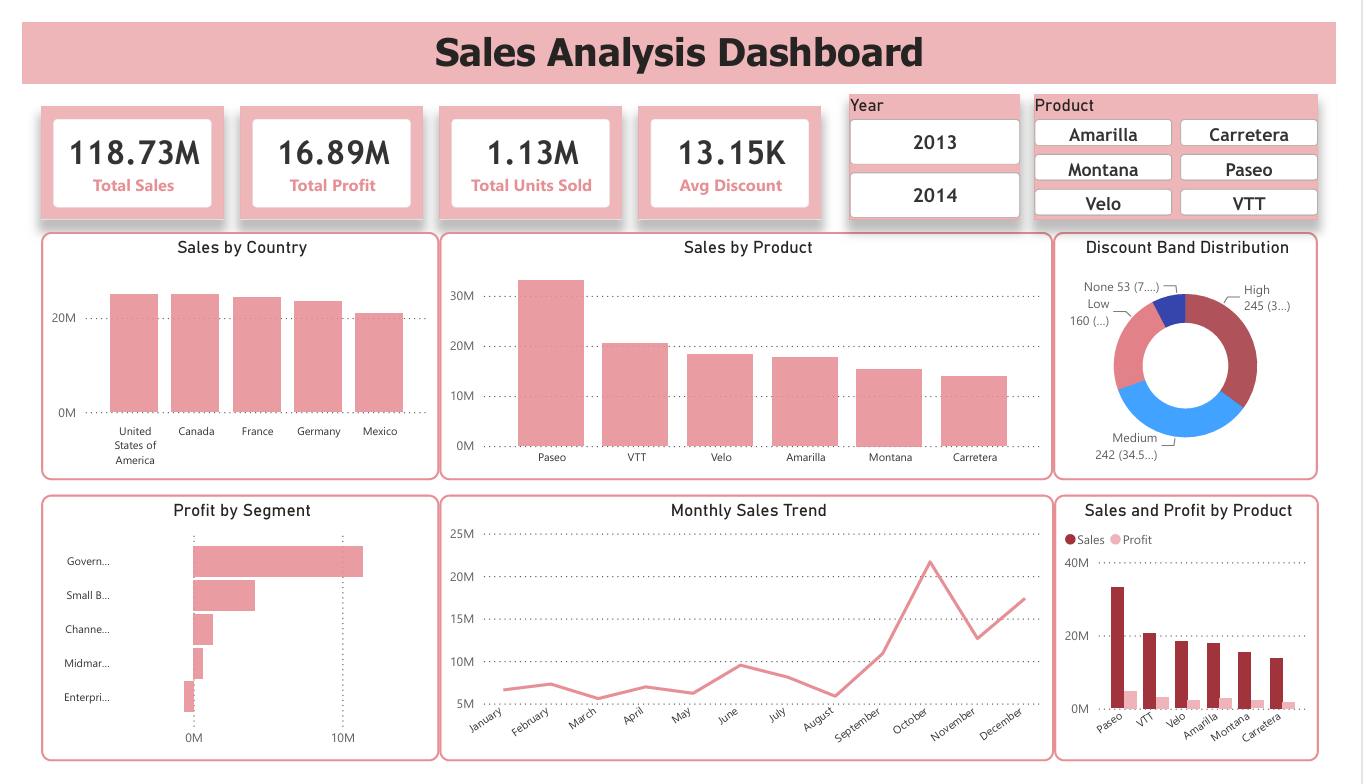

The dashboard page shown, as its layout file describes it:
{"tool":"powerbi","page":{"name":"Page 1","canvas":[1280,720],"ordinal":0},"visuals":[{"type":"textbox","box":[0,0,1280,60],"z":0},{"type":"cardVisual","fields":{"Data":["Sum(capstone_cleaned.Sales)"]},"box":[18,82,178,110],"z":1000},{"type":"cardVisual","fields":{"Data":["Sum(capstone_cleaned.Profit)"]},"box":[212,82,178,110],"z":2000},{"type":"cardVisual","fields":{"Data":["Sum(capstone_cleaned.Units Sold)"]},"box":[406,82,178,110],"z":3000},{"type":"cardVisual","fields":{"Data":["Avg(capstone_cleaned.Discounts)"]},"box":[600,82,178,110],"z":4000},{"type":"clusteredColumnChart","title":"Sales by Country","fields":{"Y":["Sum(capstone_cleaned.Sales)"],"Category":["capstone_cleaned.Country"]},"box":[18,204,388,242],"z":5000},{"type":"clusteredColumnChart","title":"Sales by Product","fields":{"Category":["capstone_cleaned.Product"],"Y":["Sum(capstone_cleaned.Sales)"]},"box":[406,204,598,242],"z":6000},{"type":"clusteredBarChart","title":"Profit by Segment","fields":{"Category":["capstone_cleaned.Segment"],"Y":["Sum(capstone_cleaned.Profit)"]},"box":[17.8,459.7,388.4,260.7],"z":7000},{"type":"lineChart","title":"Monthly Sales Trend","fields":{"Y":["Sum(capstone_cleaned.Sales)"],"Category":["capstone_cleaned.Month Name"]},"box":[406.2,459.7,598.3,260.7],"z":8000},{"type":"donutChart","title":"Discount Band Distribution","fields":{"Category":["capstone_cleaned.Discount Band"],"Y":["CountNonNull(capstone_cleaned.Date)"]},"box":[1004,204,258,242],"z":9000},{"type":"clusteredColumnChart","fields":{"Category":["capstone_cleaned.Product"],"Y":["Sum(capstone_cleaned.Sales)","Sum(capstone_cleaned.Profit)"]},"box":[1004.5,459.7,258,260.7],"z":10000},{"type":"advancedSlicerVisual","fields":{"Values":["capstone_cleaned.Year"]},"box":[806,70,166,122],"z":11000},{"type":"advancedSlicerVisual","fields":{"Values":["capstone_cleaned.Product"]},"box":[986,70,276,122],"z":12000}]}

Visuals, with their boxes in screenshot pixels (x1, y1, x2, y2), scaled from the page's 1280x720 canvas onto the 1363x784 screenshot:
textbox: region(0, 0, 1362, 65)
cardVisual - Sum(capstone_cleaned.Sales): region(19, 89, 209, 209)
cardVisual - Sum(capstone_cleaned.Profit): region(226, 89, 415, 209)
cardVisual - Sum(capstone_cleaned.Units Sold): region(432, 89, 622, 209)
cardVisual - Avg(capstone_cleaned.Discounts): region(639, 89, 828, 209)
"Sales by Country" clusteredColumnChart: region(19, 222, 432, 486)
"Sales by Product" clusteredColumnChart: region(432, 222, 1069, 486)
"Profit by Segment" clusteredBarChart: region(19, 501, 433, 783)
"Monthly Sales Trend" lineChart: region(433, 501, 1070, 783)
"Discount Band Distribution" donutChart: region(1069, 222, 1344, 486)
clusteredColumnChart - capstone_cleaned.Product x Sum(capstone_cleaned.Sales): region(1070, 501, 1344, 783)
advancedSlicerVisual - capstone_cleaned.Year: region(858, 76, 1035, 209)
advancedSlicerVisual - capstone_cleaned.Product: region(1050, 76, 1344, 209)
